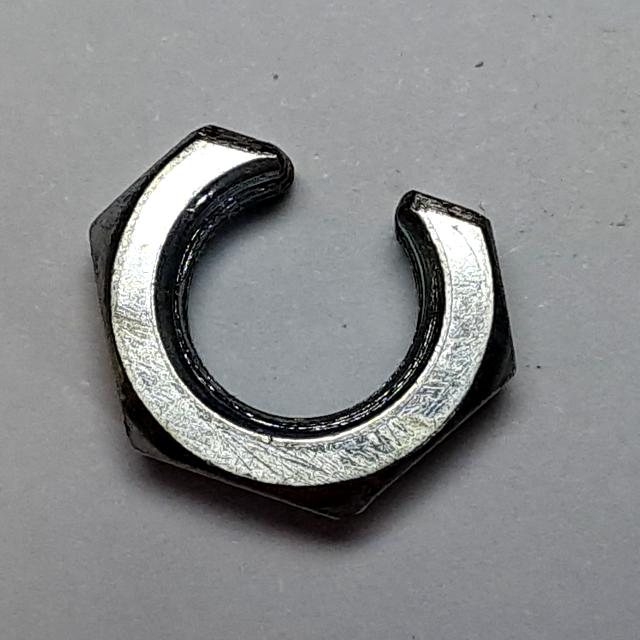Fracture: (76, 108, 533, 539)
